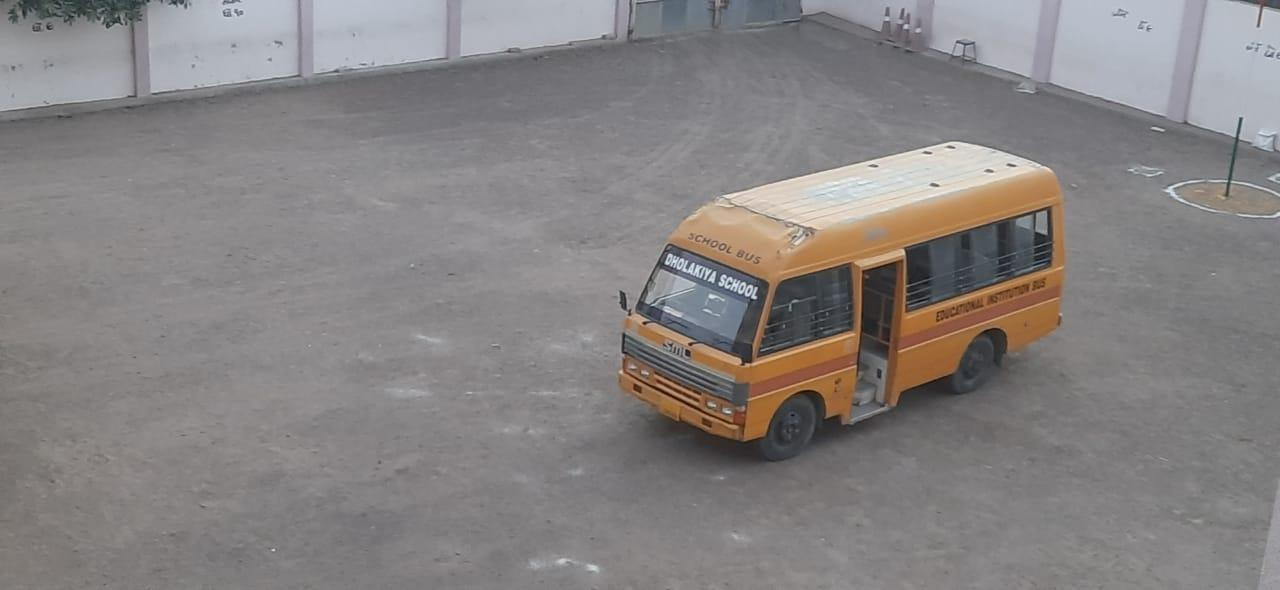Bus: (607, 125, 1087, 480)
